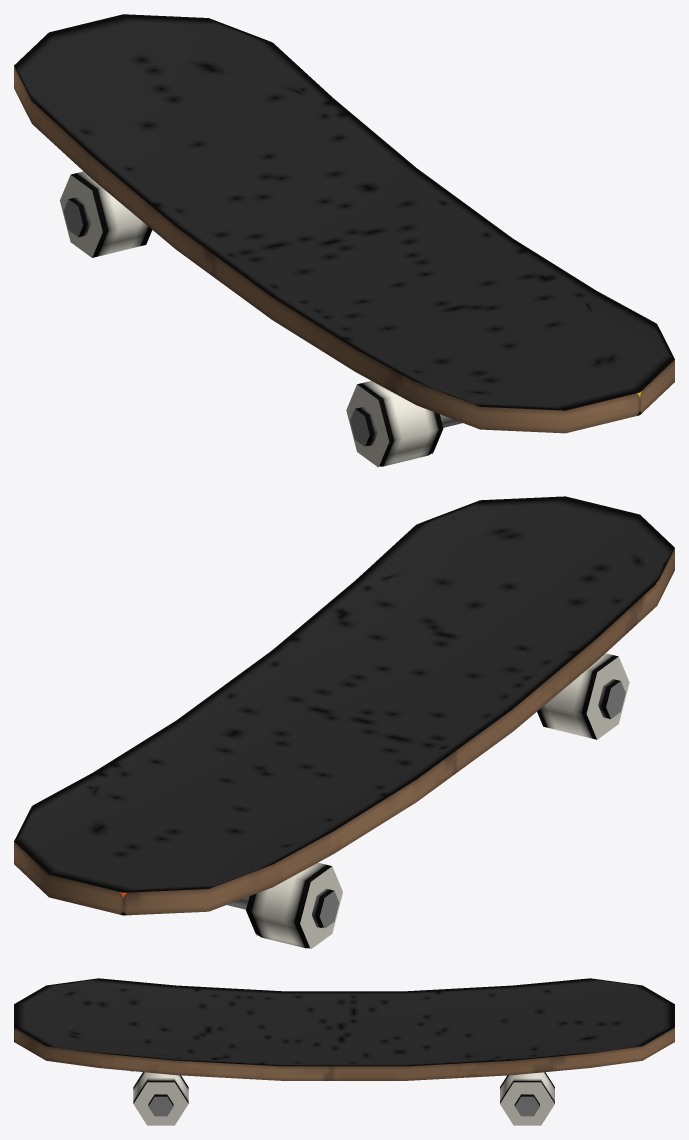
Rendered from Prop_Skate.fbx.
3 views of the same model, one above another, from view 1: azimuth 30°, elevation 25°; view 2: azimuth 150°, elevation 25°; view 3: azimuth 270°, elevation 25° (orthographic). The views are drawn at different scales.
Parts seen in each view (by area): view 1: Cylinder.099; view 2: Cylinder.099; view 3: Cylinder.099.
Part boxes in pixels (box(x1,y1,x2,y2)): Cylinder.099: box(14, 14, 674, 467); Cylinder.099: box(14, 496, 674, 949); Cylinder.099: box(14, 978, 674, 1125).
Bounding box in the file's own units: 0.5762 × 0.243 × 2.01.
